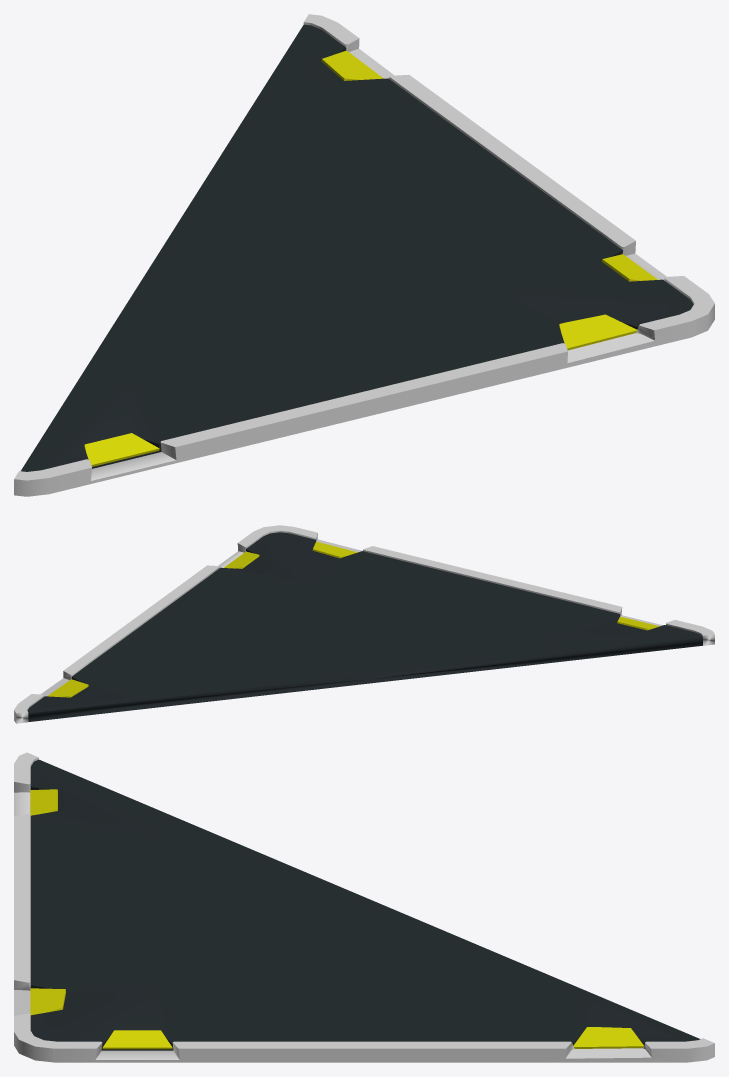
The model's file is M_Cuadra_04.fbx.
The picture shows the model from 3 angles, top to bottom: view 1: azimuth 30°, elevation 25°; view 2: azimuth 150°, elevation 25°; view 3: azimuth 270°, elevation 25°; orthographic projection. The views are drawn at different scales.
Visible parts, largest first — view 1: clip2; view 2: clip2; view 3: clip2.
Boxes of the visible parts, box(x1,y1,x2,y2) form: clip2: box(14, 14, 714, 496); clip2: box(14, 525, 714, 723); clip2: box(14, 752, 714, 1062).
Bounding box in the file's own units: 16.48 × 0.3608 × 16.48.
